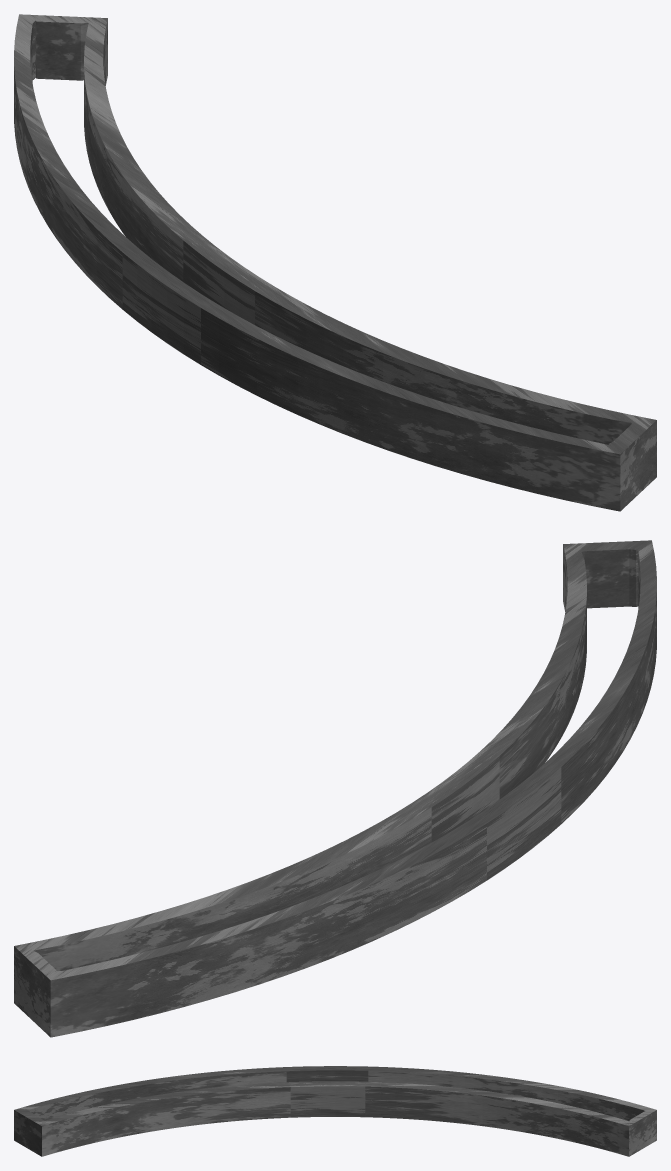
The model's file is shield.glb.
3 views of the same model, one above another, from view 1: azimuth 30°, elevation 25°; view 2: azimuth 150°, elevation 25°; view 3: azimuth 270°, elevation 25° (orthographic). The views are drawn at different scales.
Parts seen in each view (by area): view 1: ShieldBar; view 2: ShieldBar; view 3: ShieldBar.
Boxes of the visible parts, <box> form: ShieldBar: <box>14,14,656,511</box>; ShieldBar: <box>14,540,656,1037</box>; ShieldBar: <box>14,1066,656,1156</box>.
Size of what is drawn, in the model's own units: 0.1679 by 0.0398 by 0.7579.
1 material, 1 textured.
